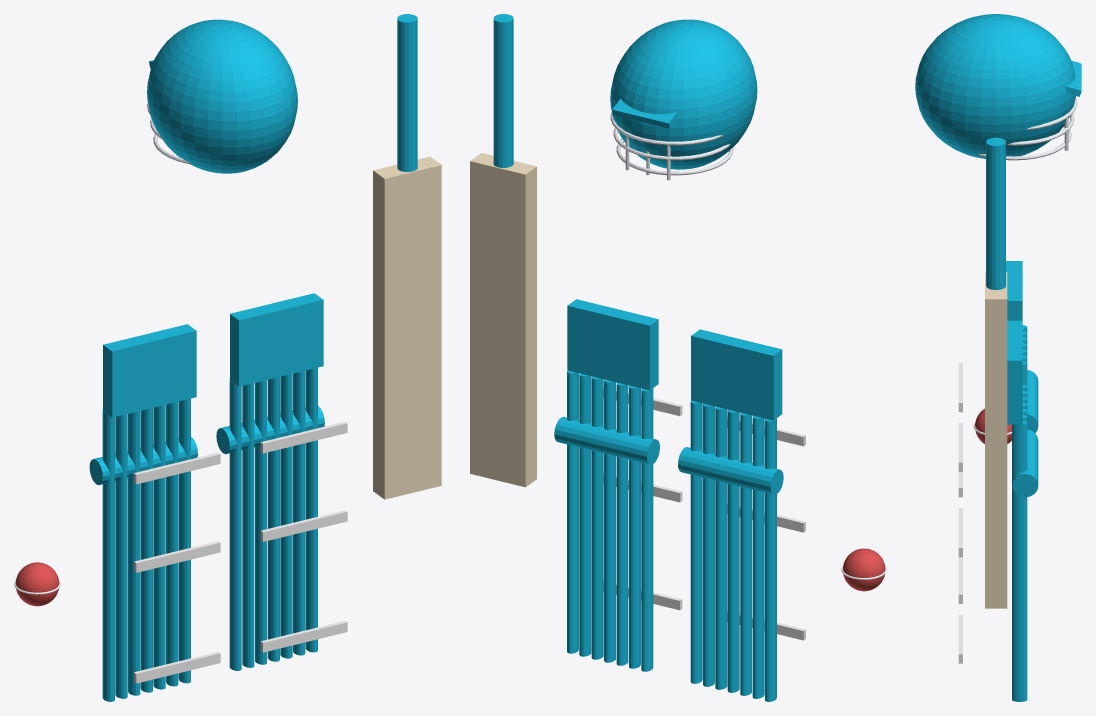
File: cricket_gear_kit.glb
3 renders of one model, left to right at view 1: azimuth 30°, elevation 25°; view 2: azimuth 150°, elevation 25°; view 3: azimuth 270°, elevation 25°, orthographic. The views are drawn at different scales.
Visible parts, largest first — view 1: Pad_Right, Pad_Left, Cricket_Bat, Batting_Helmet, Cricket_Ball; view 2: Pad_Right, Pad_Left, Cricket_Bat, Batting_Helmet, Cricket_Ball; view 3: Batting_Helmet, Cricket_Bat, Pad_Right, Pad_Left, Cricket_Ball.
Boxes of the visible parts, left/top/right/bottom form: Pad_Right: left=216, top=293, right=347, bottom=670; Pad_Left: left=89, top=324, right=220, bottom=701; Cricket_Bat: left=373, top=14, right=441, bottom=499; Batting_Helmet: left=147, top=19, right=297, bottom=173; Cricket_Ball: left=14, top=562, right=60, bottom=606; Pad_Right: left=554, top=299, right=682, bottom=671; Pad_Left: left=678, top=329, right=805, bottom=701; Cricket_Bat: left=470, top=14, right=536, bottom=487; Batting_Helmet: left=610, top=19, right=757, bottom=180; Cricket_Ball: left=841, top=548, right=886, bottom=591; Batting_Helmet: left=915, top=14, right=1081, bottom=160; Cricket_Bat: left=985, top=137, right=1007, bottom=608; Pad_Right: left=958, top=320, right=1038, bottom=701; Pad_Left: left=958, top=261, right=1038, bottom=603; Cricket_Ball: left=973, top=408, right=1011, bottom=443.
Size of the model in its own units: 0.7923 by 1.19 by 0.2831.
